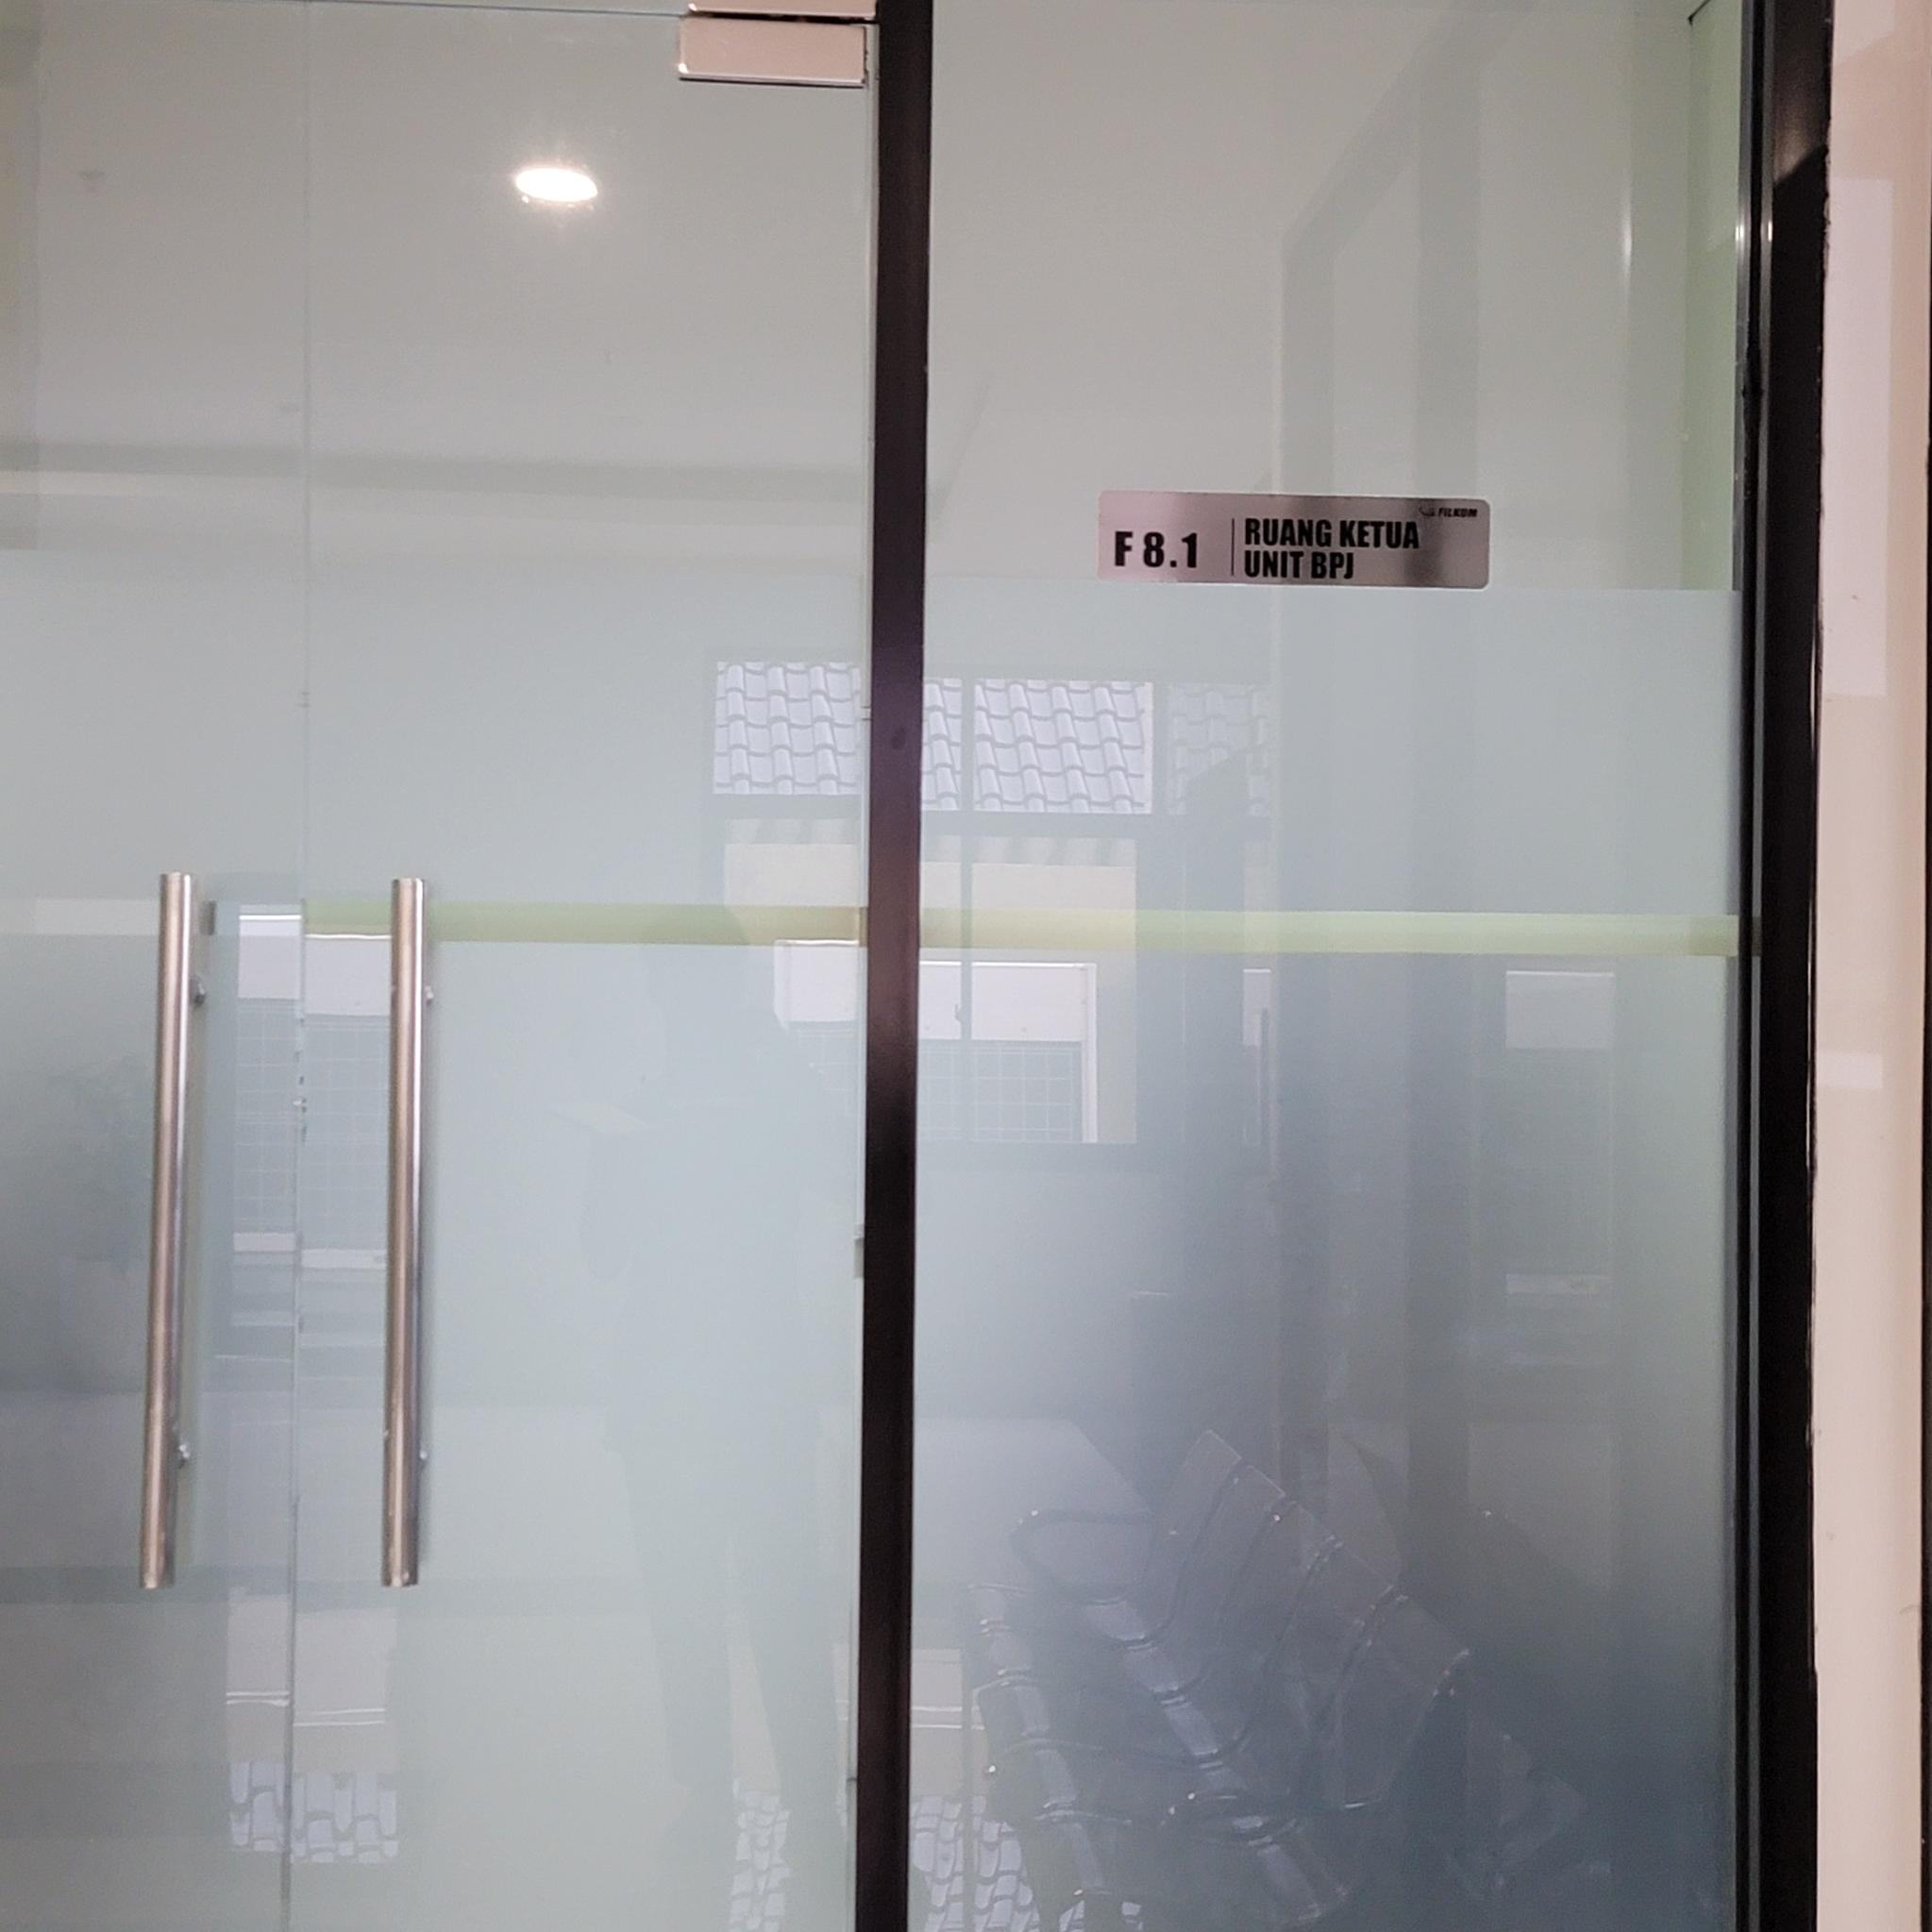plate: (1097, 485, 1491, 594)
